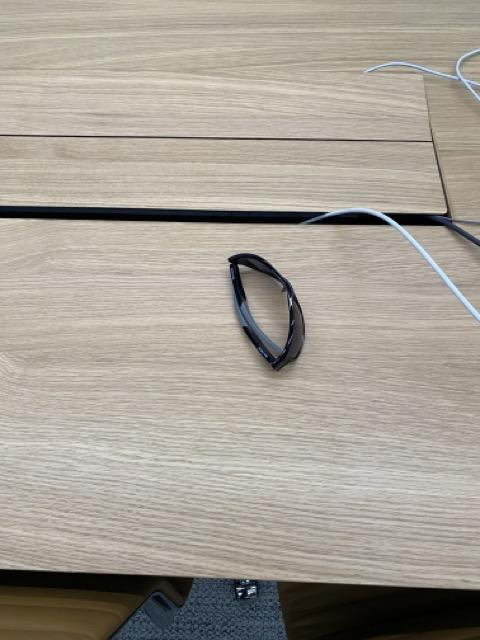Sunglasses: (227, 251, 308, 374)
